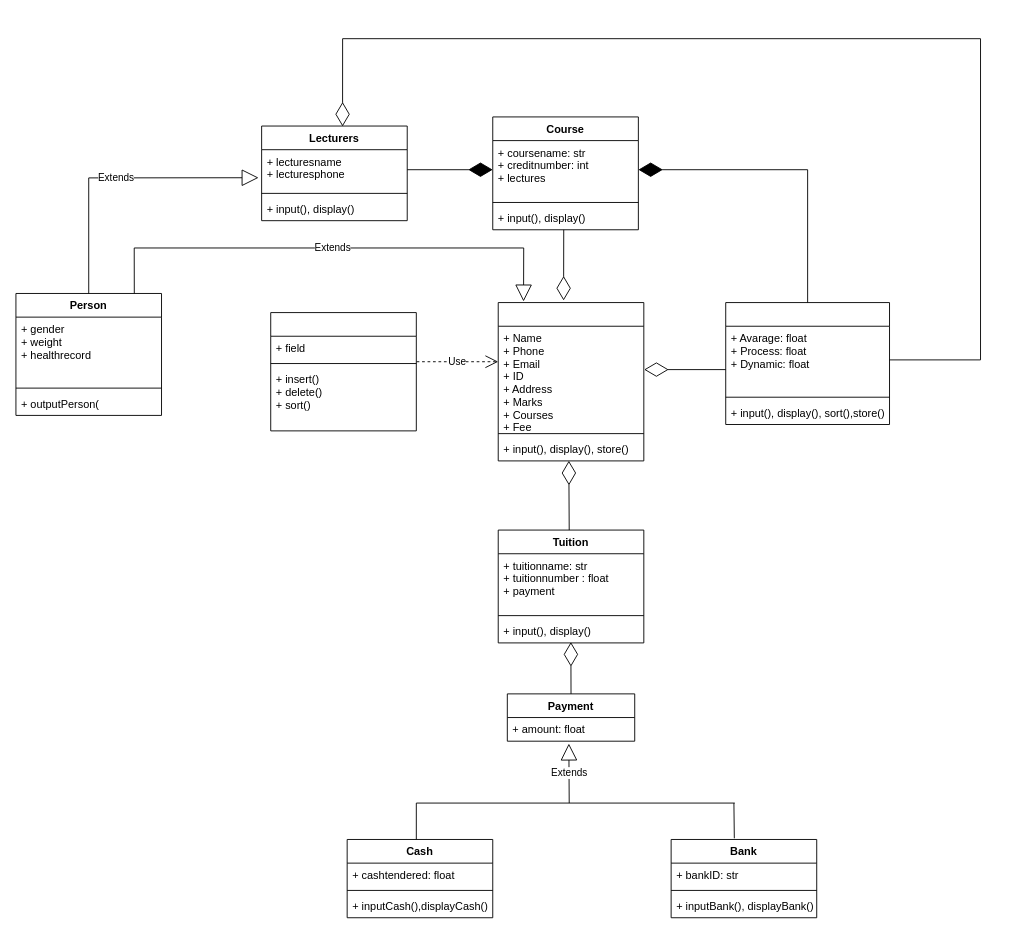
Image size: 1020x936. Some labels were removed from this diagram. Each missing label, with the box of its shape:
Mark: (725, 302, 890, 425)
Student: (497, 302, 644, 461)
Studentmanagement: (270, 312, 416, 431)
